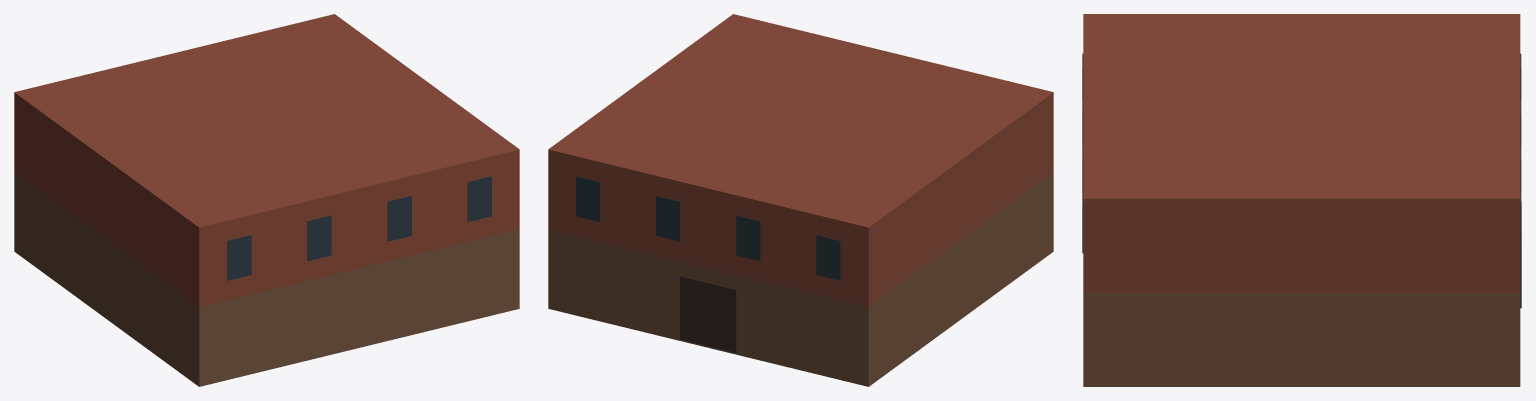
File: tw_brick_16_base_lod1.glb
3 renders of one model, left to right at view 1: azimuth 30°, elevation 25°; view 2: azimuth 150°, elevation 25°; view 3: azimuth 270°, elevation 25°, orthographic. The views are drawn at different scales.
Parts seen in each view (by area): view 1: tw_brick_16_base_lod1; view 2: tw_brick_16_base_lod1; view 3: tw_brick_16_base_lod1.
Boxes of the visible parts, x1,y1,x2,y2 form: tw_brick_16_base_lod1: (14,14,519,386); tw_brick_16_base_lod1: (548,14,1053,386); tw_brick_16_base_lod1: (1082,14,1521,386).
Bounding box in the file's own units: 16 × 7.6 × 16.07.
Materials: 1 (1 with a texture image).
